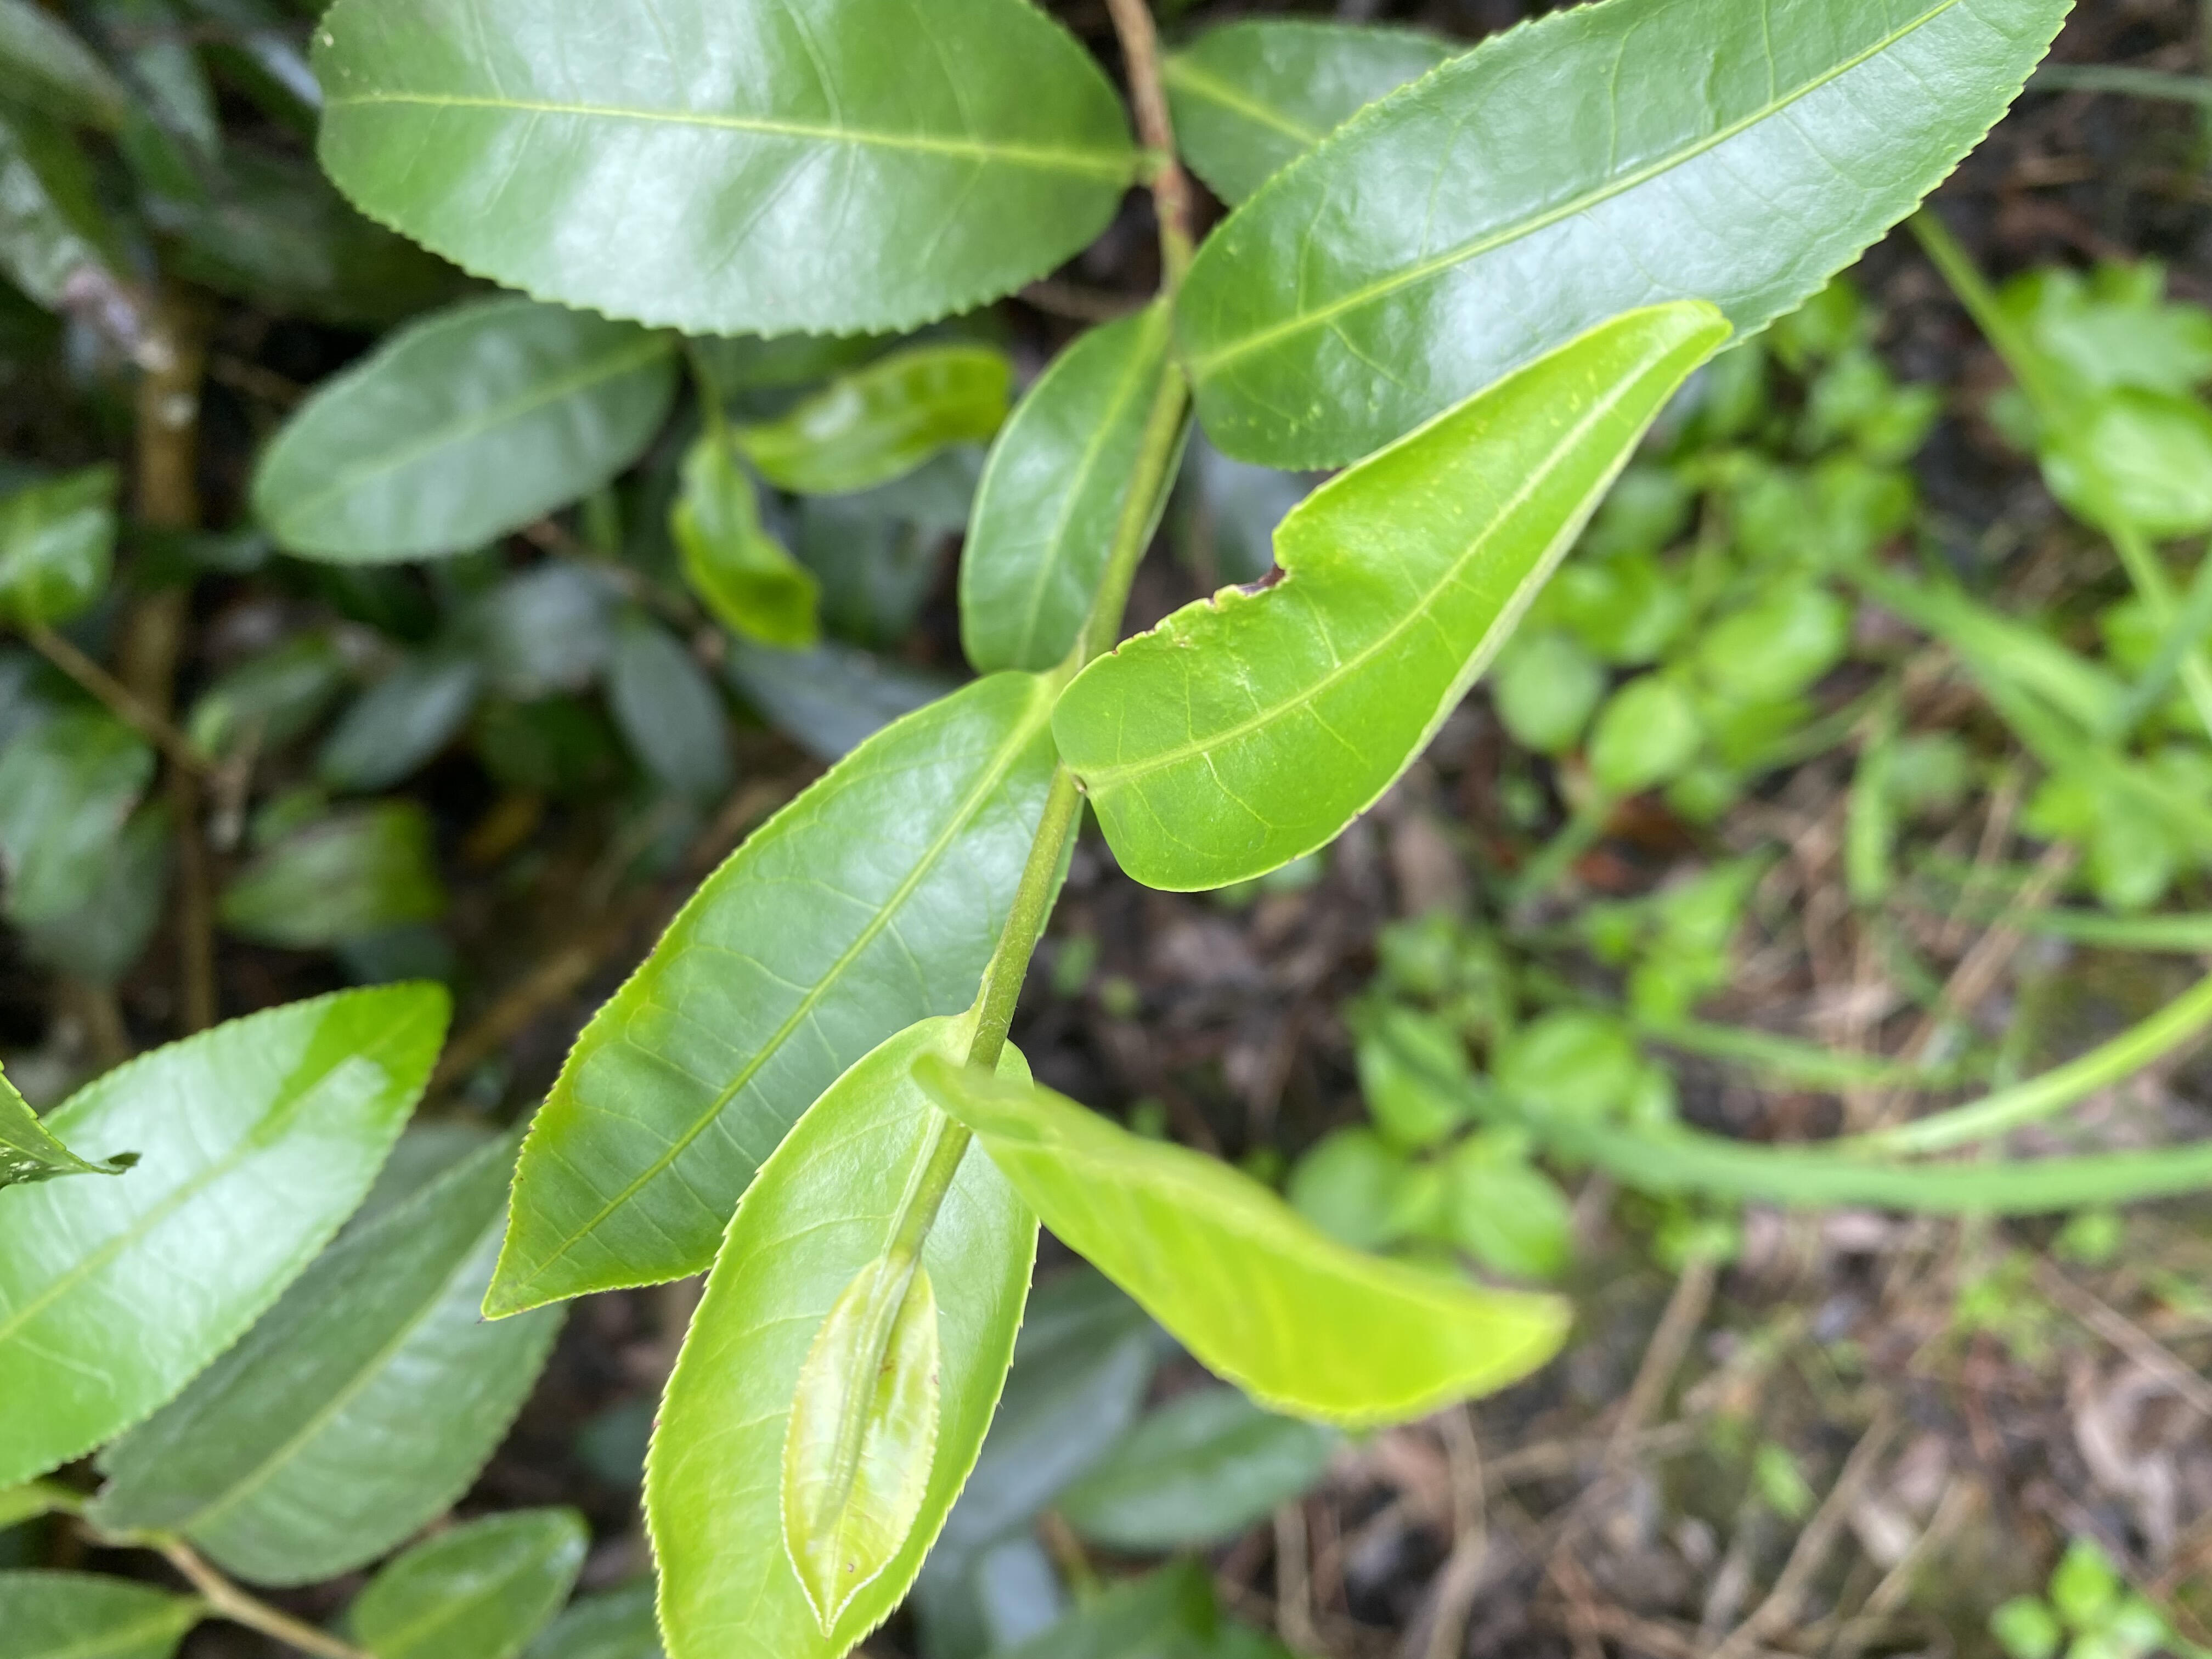healthy: (1177, 3, 2087, 479), (481, 669, 1083, 1323), (310, 2, 1139, 338), (636, 1014, 1043, 1659), (909, 1051, 1576, 1424)
tanju_low: (1052, 296, 1733, 894), (779, 1262, 939, 1636)
